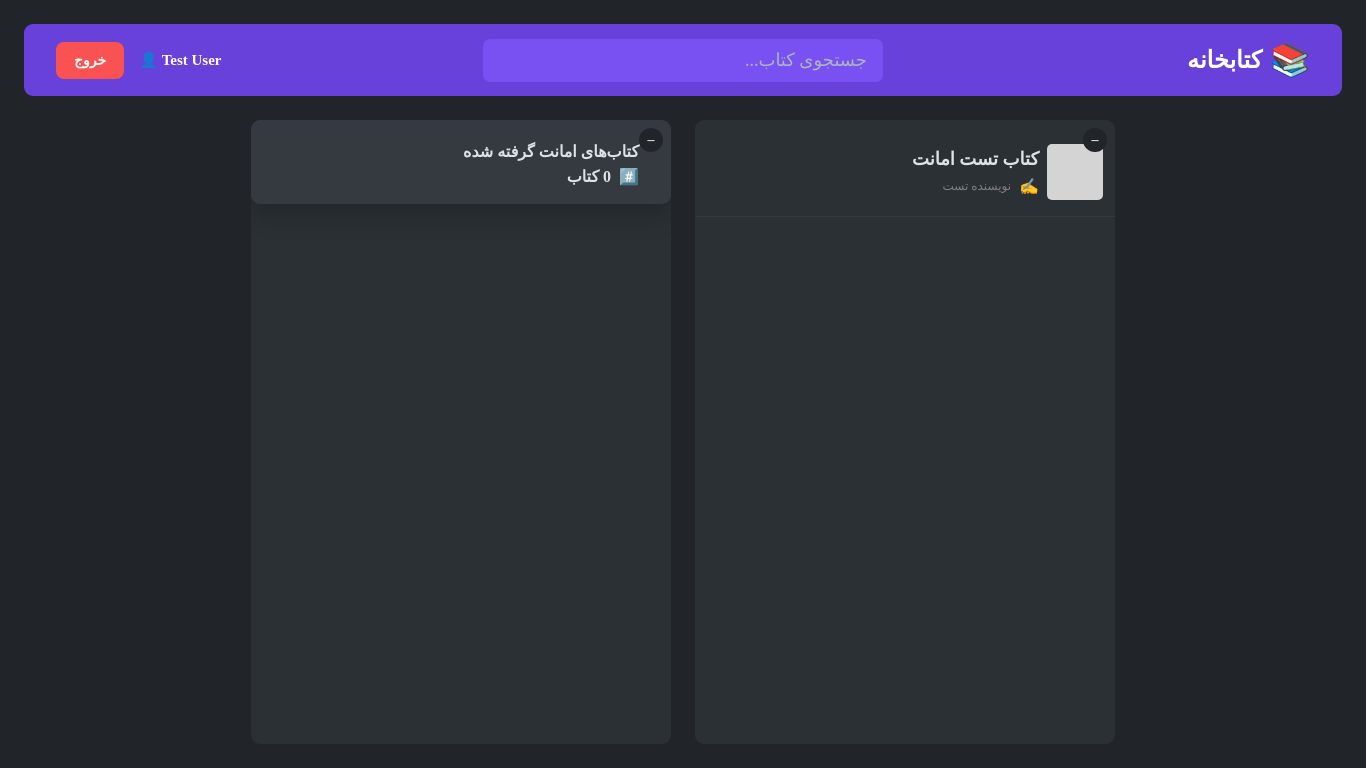
Test: Library App - Functional Tests › Can borrow a book
The image size is (1366, 768).
Check: the heading "کتاب تست امانت" is shown, box [912,149,1039,169]
// Click on the first book
Click the list item. click: x=905, y=172
box: [695,128,1115,217]
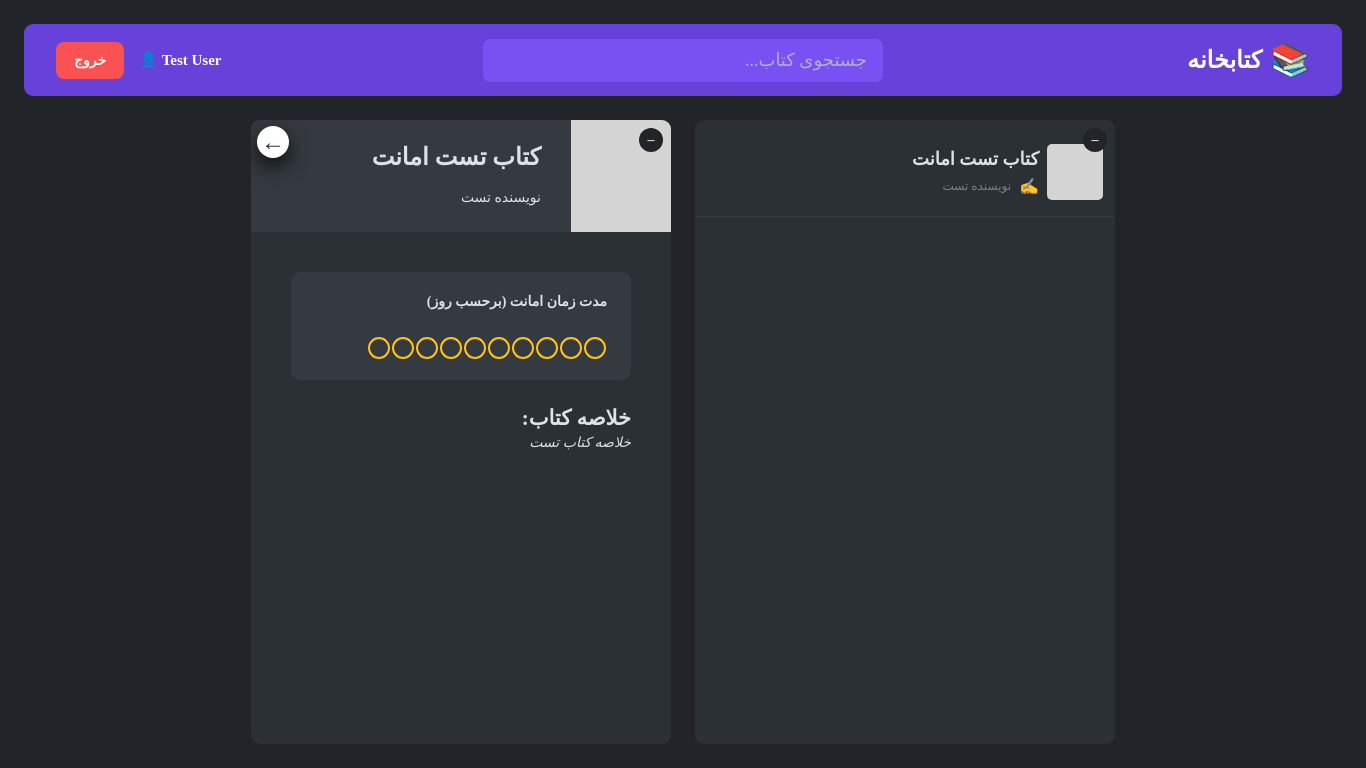
Check: the text "مدت زمان امانت (برحسب روز)" is shown, box [427,294,607,309]
